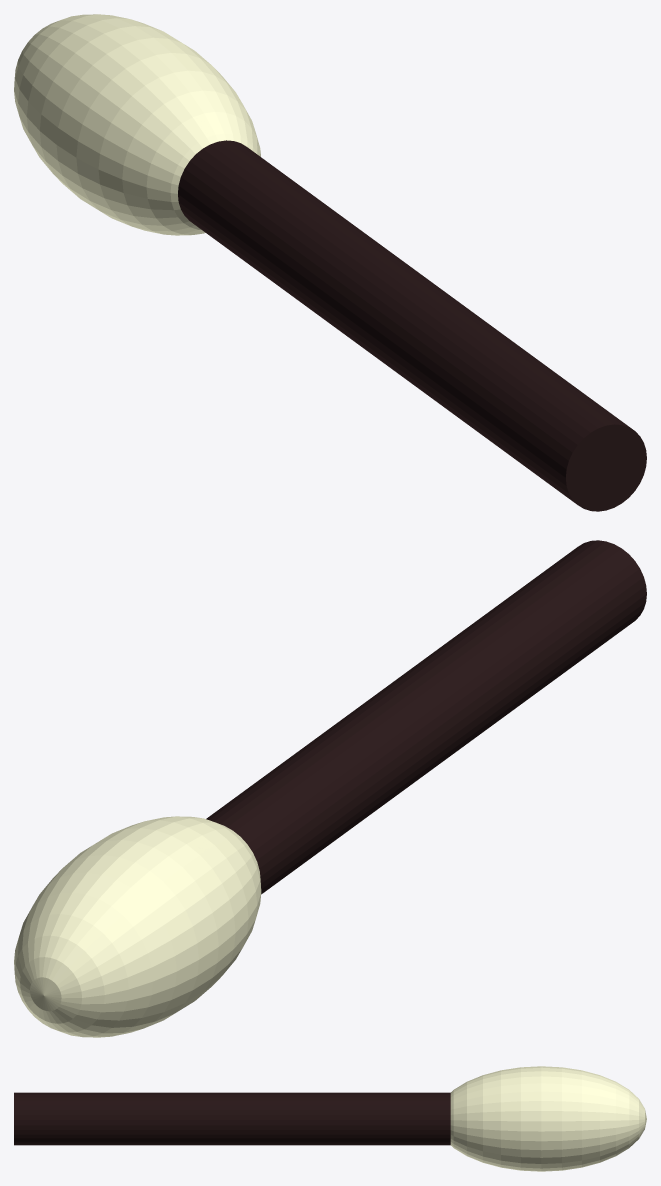
The model's file is dab2.fbx.
The picture shows the model from 3 angles, top to bottom: view 1: azimuth 30°, elevation 25°; view 2: azimuth 150°, elevation 25°; view 3: azimuth 270°, elevation 25°; orthographic projection. The views are drawn at different scales.
Visible parts, largest first — view 1: Cylinder, Sphere; view 2: Cylinder, Sphere; view 3: Cylinder, Sphere.
Boxes of the visible parts, x1,y1,x2,y2 form: Cylinder: [178, 140, 646, 511]; Sphere: [14, 14, 260, 235]; Cylinder: [206, 540, 646, 894]; Sphere: [14, 816, 261, 1037]; Cylinder: [14, 1092, 450, 1145]; Sphere: [450, 1066, 646, 1171].
Bounding box in the file's own units: 0.1 × 0.1 × 0.6.
